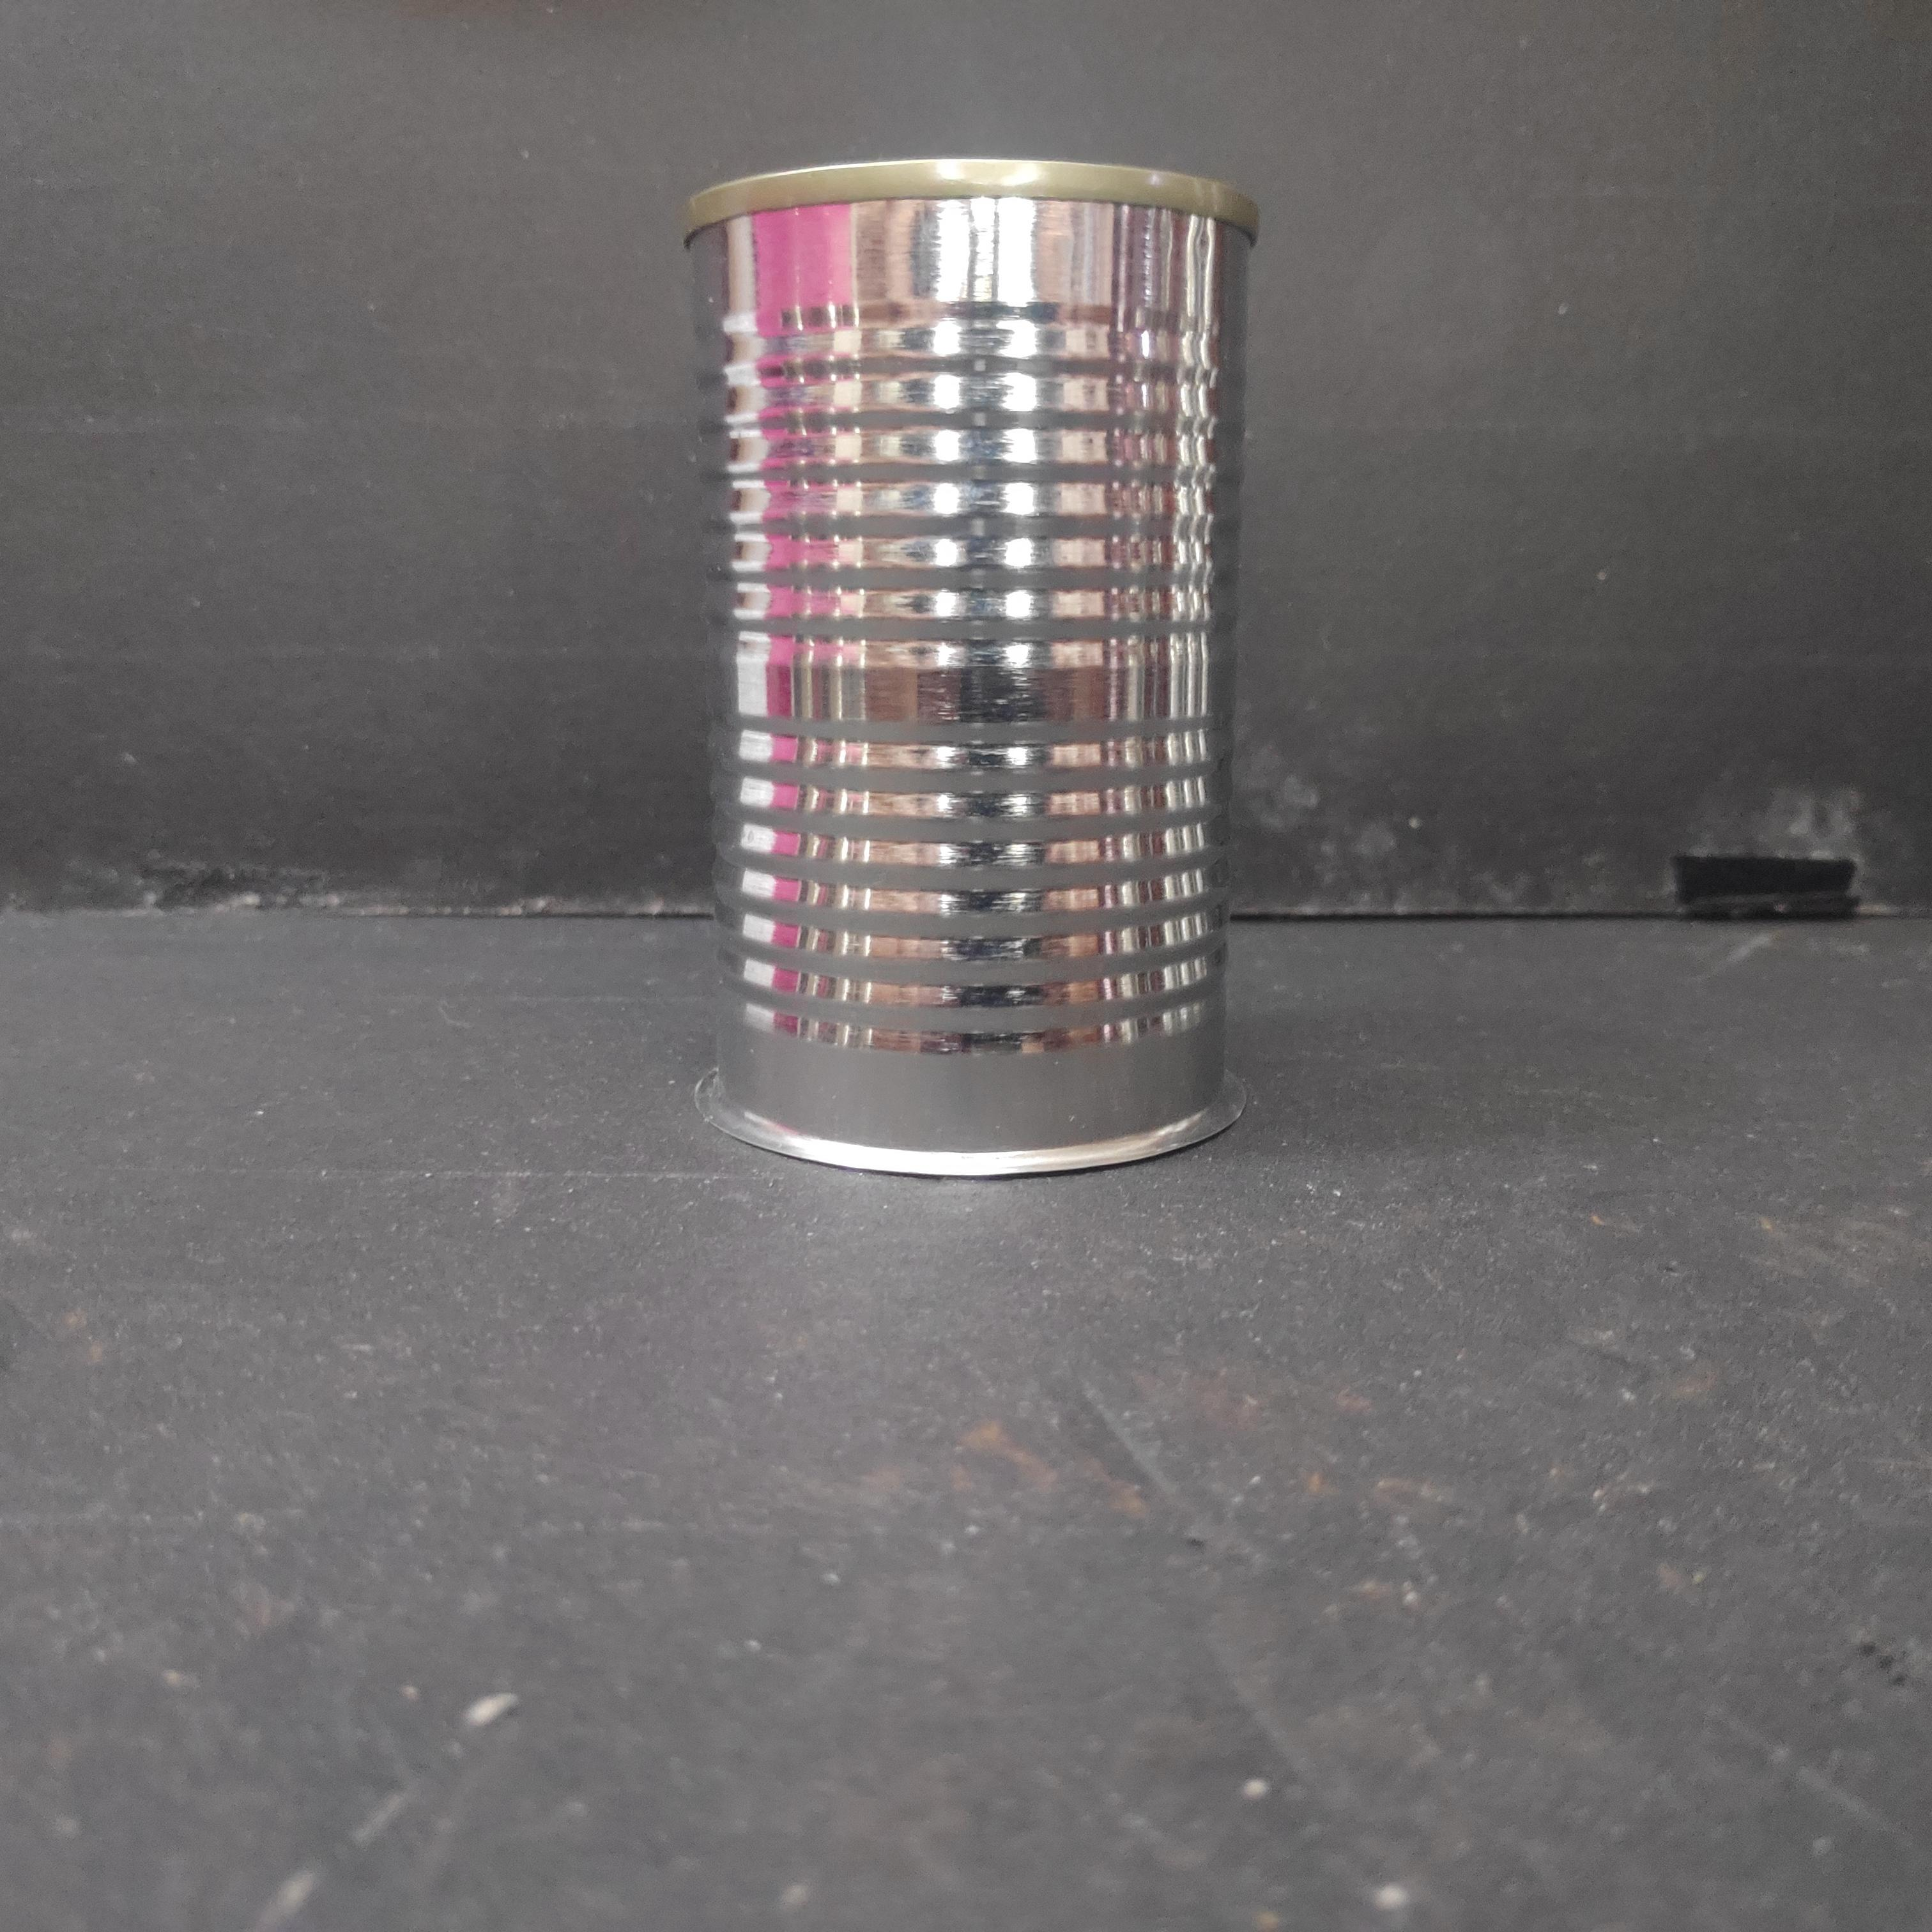No defect: (685, 147, 1256, 1187)
